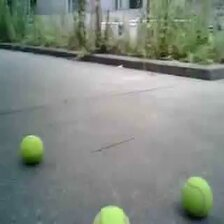tennis: (183, 176, 212, 216), (90, 205, 134, 224), (19, 135, 43, 162)
